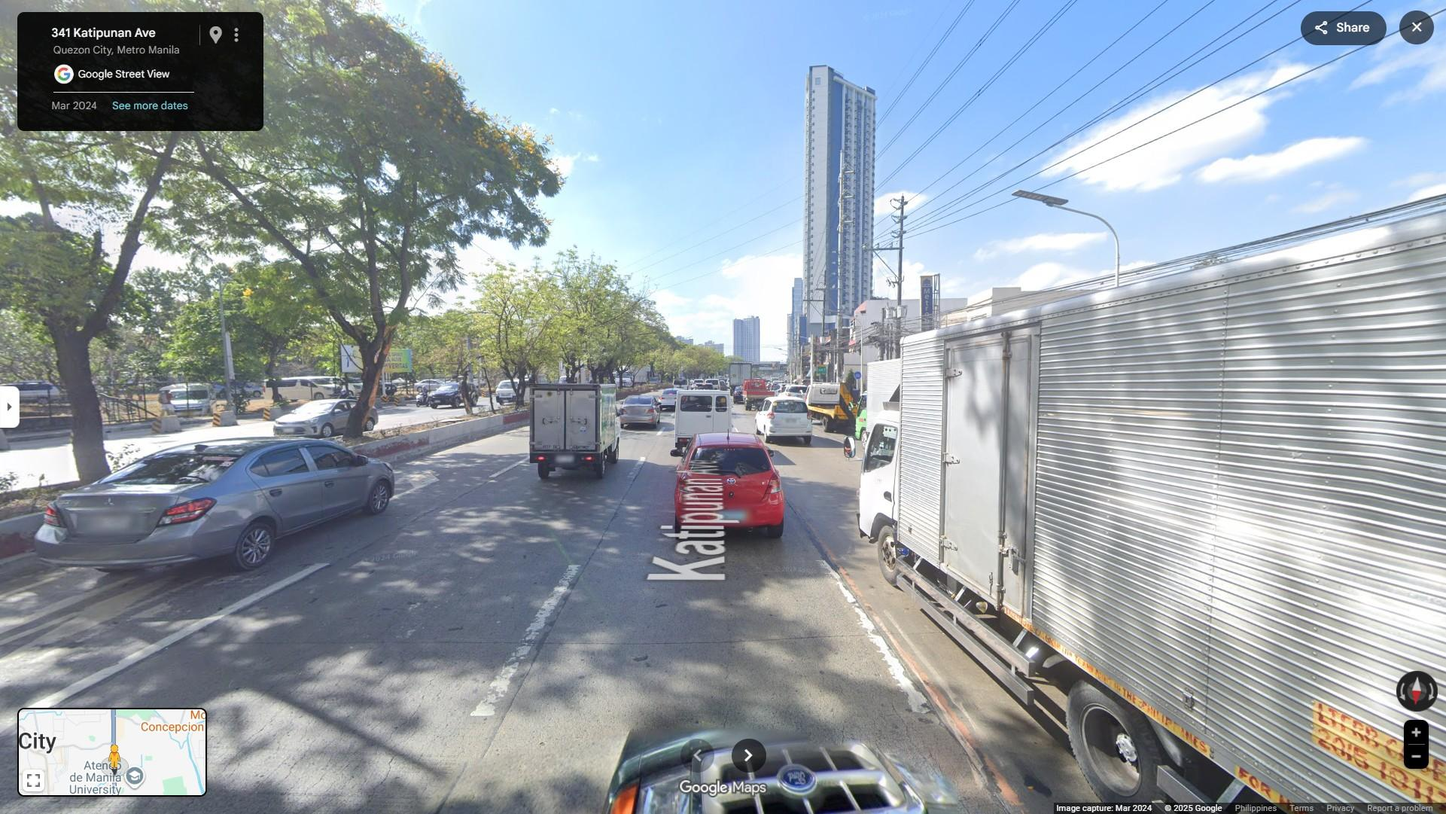pedestrian: (155, 384, 176, 423)
